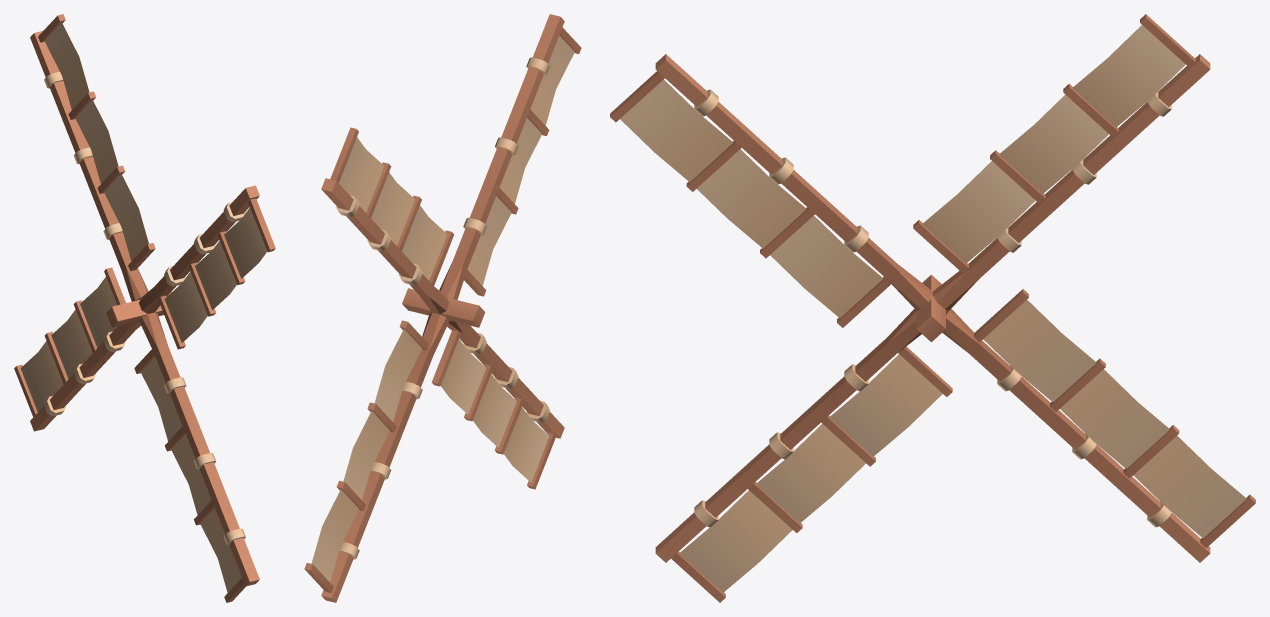
File: windmill.glb
The picture shows the model from 3 angles, left to right: view 1: azimuth 30°, elevation 25°; view 2: azimuth 150°, elevation 25°; view 3: azimuth 270°, elevation 25°; orthographic projection. The views are drawn at different scales.
Visible parts, largest first — view 1: windmill; view 2: windmill; view 3: windmill.
Boxes of the visible parts, box(x1,y1,x2,y2) form: windmill: box(14, 14, 275, 602); windmill: box(304, 14, 581, 602); windmill: box(610, 14, 1255, 602).
Bounding box in the file's own units: 0.4711 × 3.11 × 3.11.
1 material, 1 textured.
